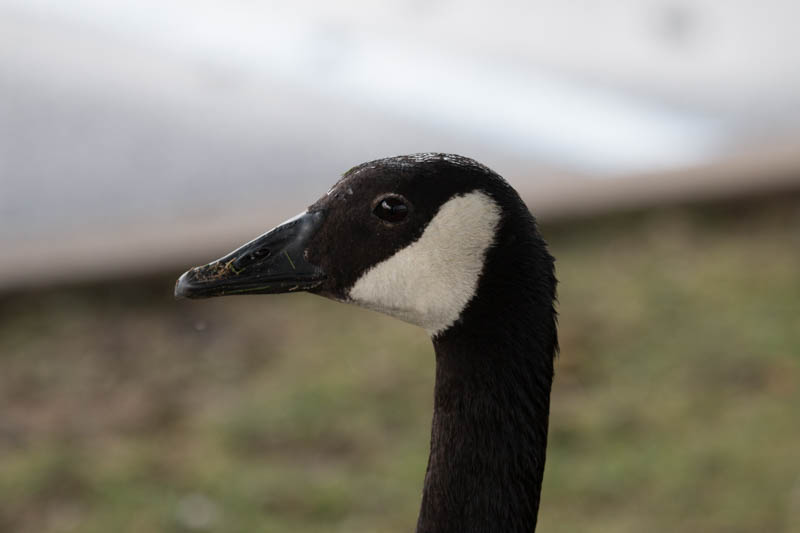goose-head: (175, 153, 556, 338)
